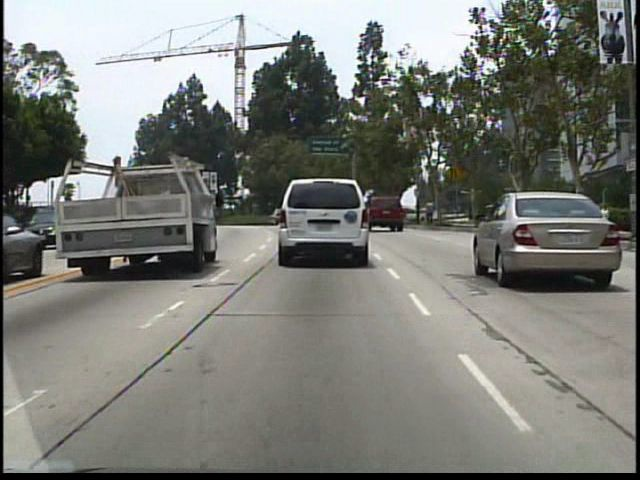person: (424, 194, 438, 227)
